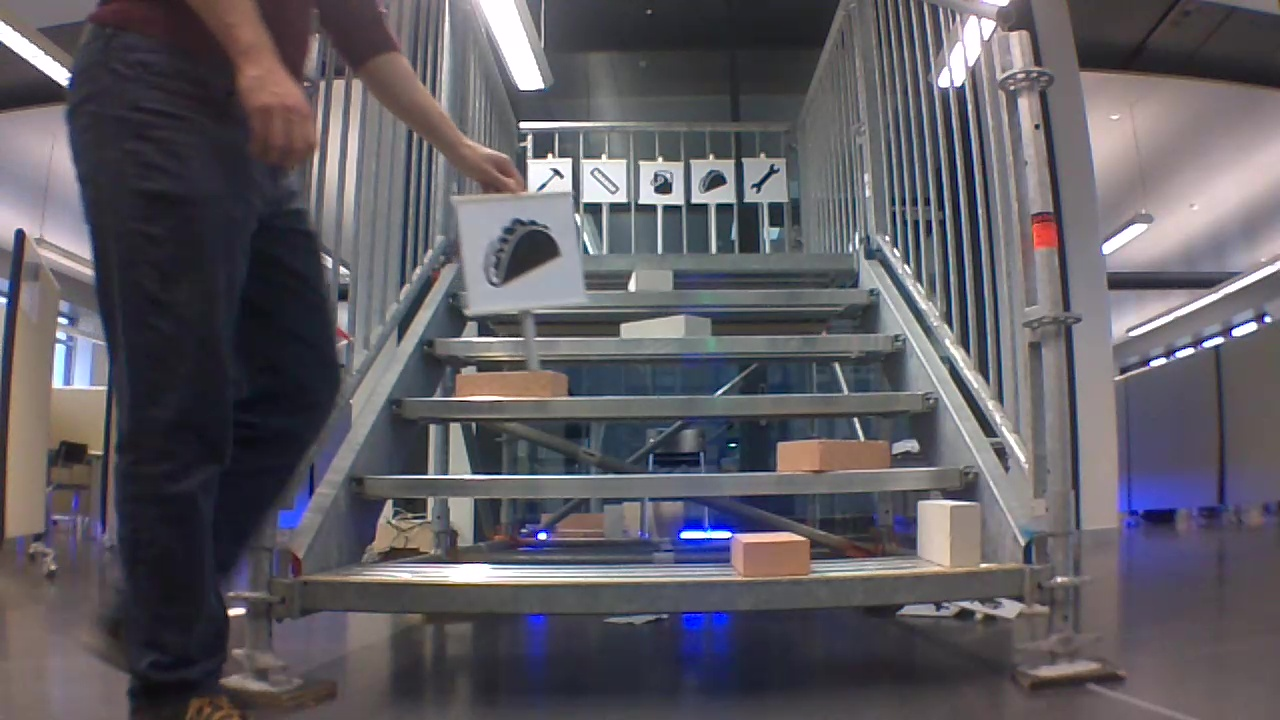brick: (918, 499, 980, 566), (777, 438, 889, 469), (731, 530, 808, 575), (457, 369, 565, 397), (621, 316, 711, 338), (628, 269, 672, 291)
bucket: (646, 166, 674, 196)
edge: (299, 568, 1028, 610), (357, 466, 983, 498), (389, 394, 939, 416), (419, 331, 904, 354)
hammer: (532, 164, 568, 192)
ruler: (587, 163, 621, 197)
taco: (479, 211, 566, 288), (693, 165, 730, 196)
wrench: (746, 159, 783, 196)
